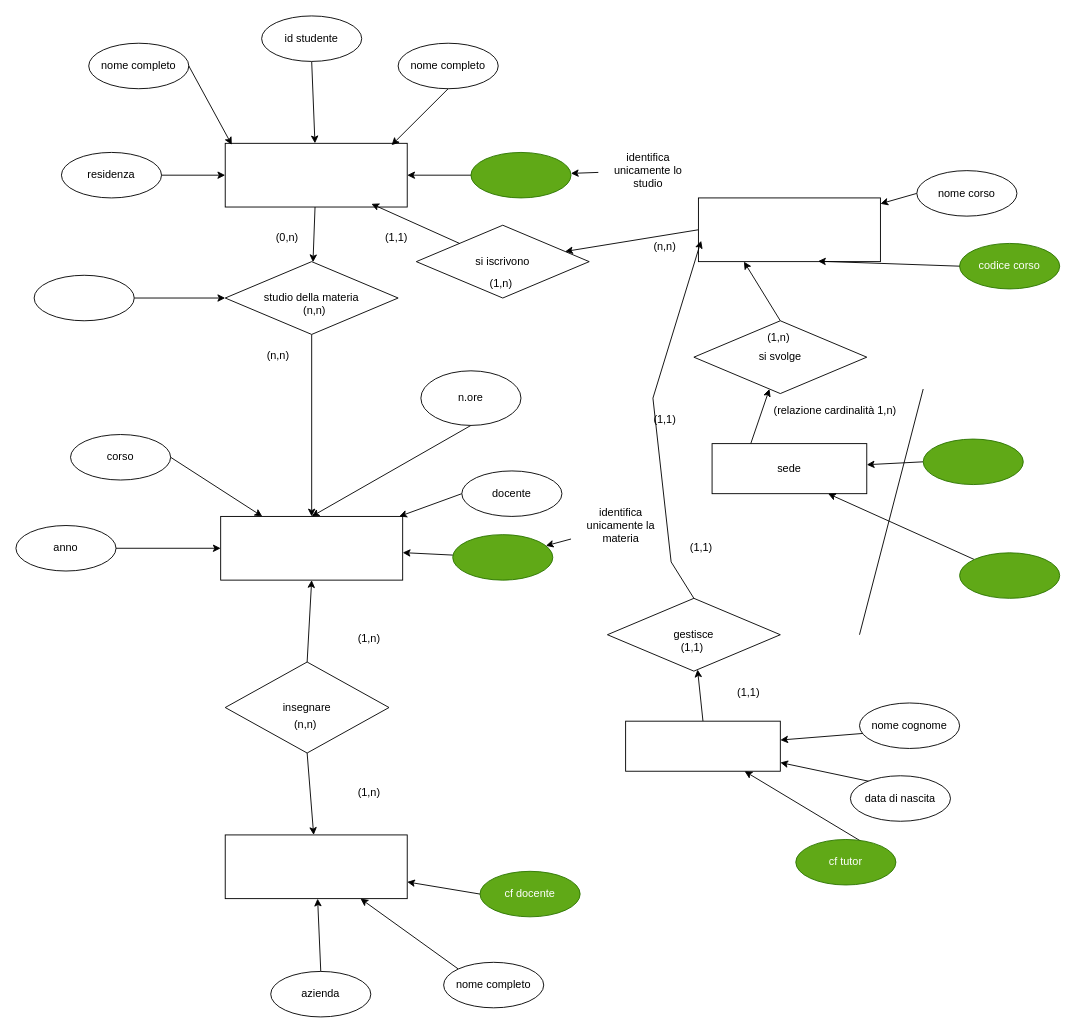
The diagram is 1076 pixels wide and 1033 high, and some of its shapes have lost their labels. Each missing label, with the centre of its shape:
"corso di studi" goes at (789,229).
"docenti" goes at (315,866).
"id materia" goes at (502,557).
"indirizzo" goes at (1009,575).
"materia" goes at (311,548).
"nome sede" goes at (972,461).
"studenti" goes at (315,174).
"titolo di studio" goes at (520,175).
"tutor" goes at (702,745).
"voti" goes at (83,297).
